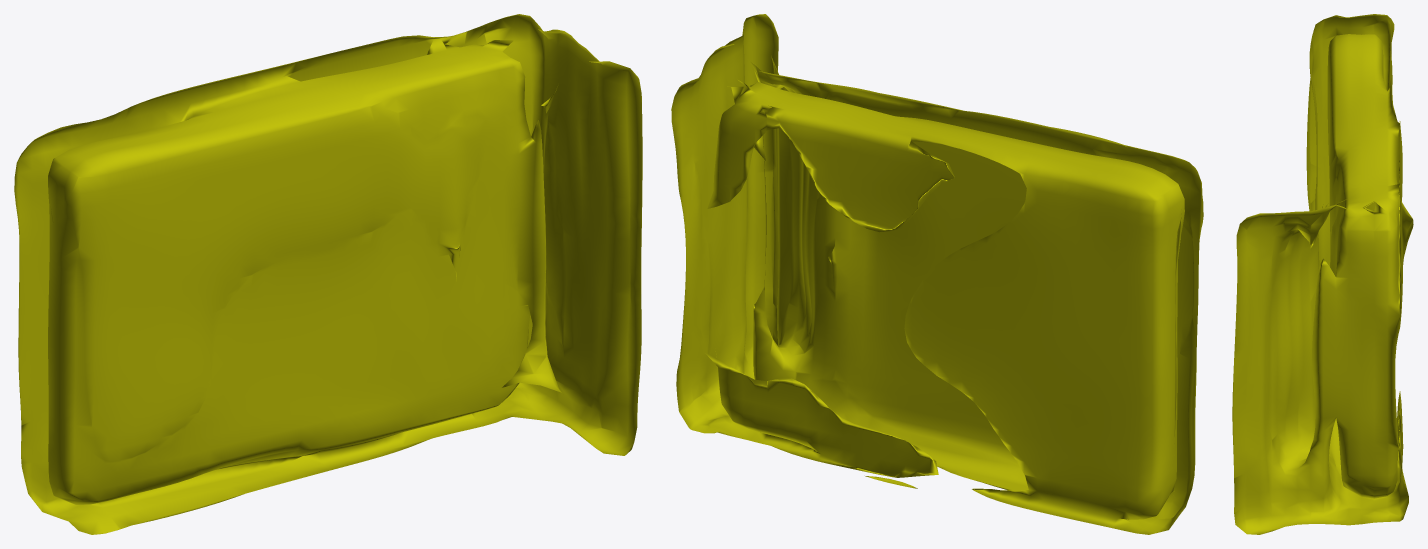
3 renders of one model, left to right at view 1: azimuth 30°, elevation 25°; view 2: azimuth 150°, elevation 25°; view 3: azimuth 270°, elevation 25°, orthographic. The views are drawn at different scales.
Parts seen in each view (by area): view 1: world; view 2: world; view 3: world.
Boxes of the visible parts, x1,y1,x2,y2 form: world: [14, 14, 642, 534]; world: [671, 14, 1203, 534]; world: [1232, 14, 1413, 534].
Bounding box in the file's own units: 40.86 × 28.53 × 14.19.
